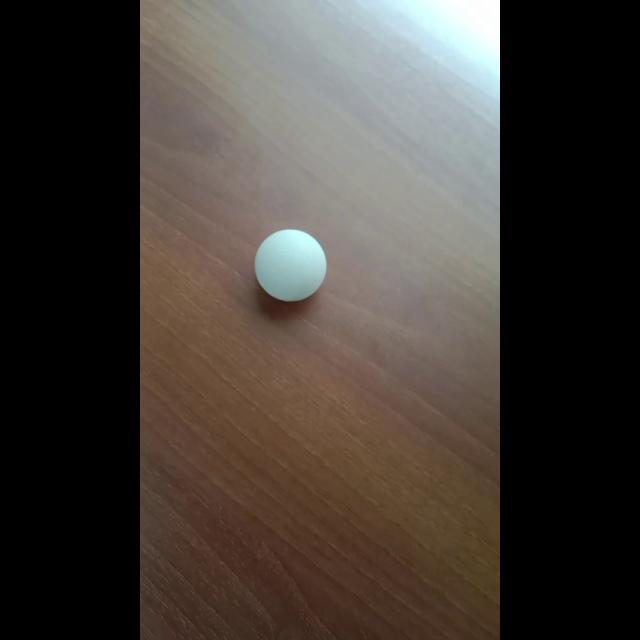white ball: (254, 228, 326, 302)
